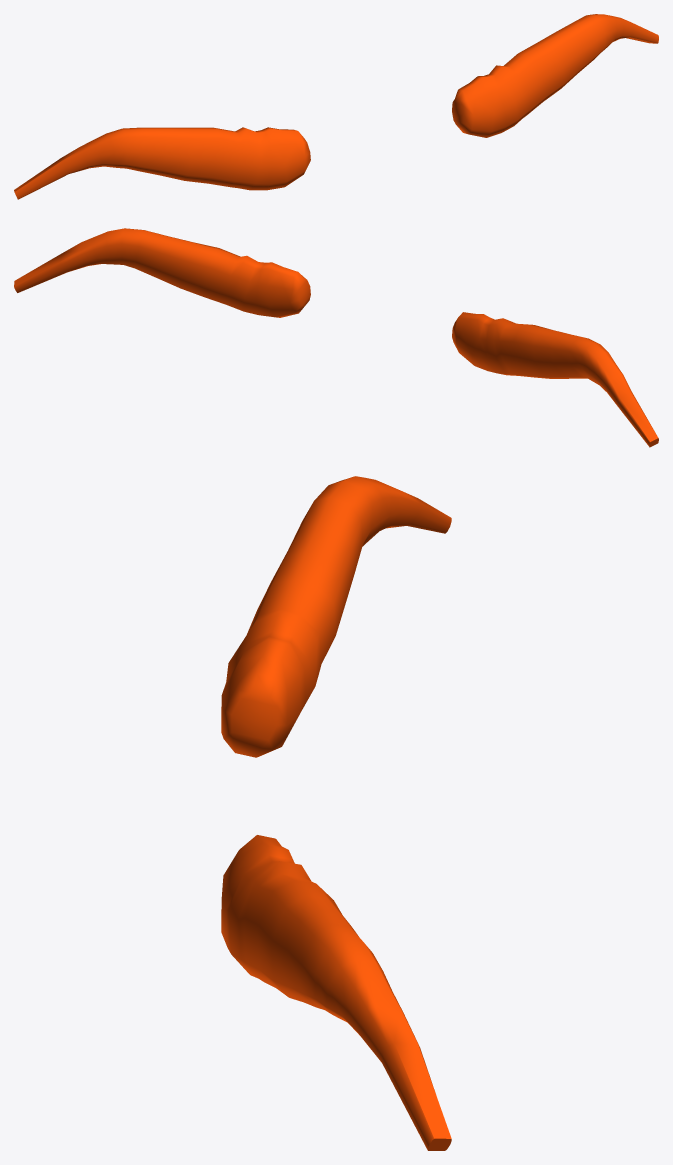
The model's file is Eyebrows_09_06.fbx.
3 views of the same model, one above another, from view 1: azimuth 30°, elevation 25°; view 2: azimuth 150°, elevation 25°; view 3: azimuth 270°, elevation 25° (orthographic). The views are drawn at different scales.
Visible parts, largest first — view 1: Eyebrows_09_06; view 2: Eyebrows_09_06; view 3: Eyebrows_09_06.
Part boxes in pixels (box(x1,y1,x2,y2)): Eyebrows_09_06: box(14, 14, 658, 199); Eyebrows_09_06: box(14, 228, 658, 447); Eyebrows_09_06: box(221, 476, 451, 1150).
Bounding box in the file's own units: 19.2 × 2.07 × 2.98.
